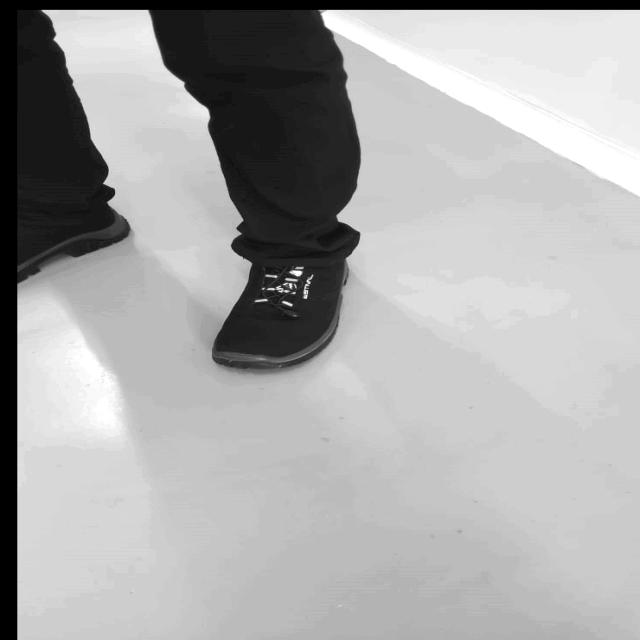Boots: (202, 236, 367, 379)
